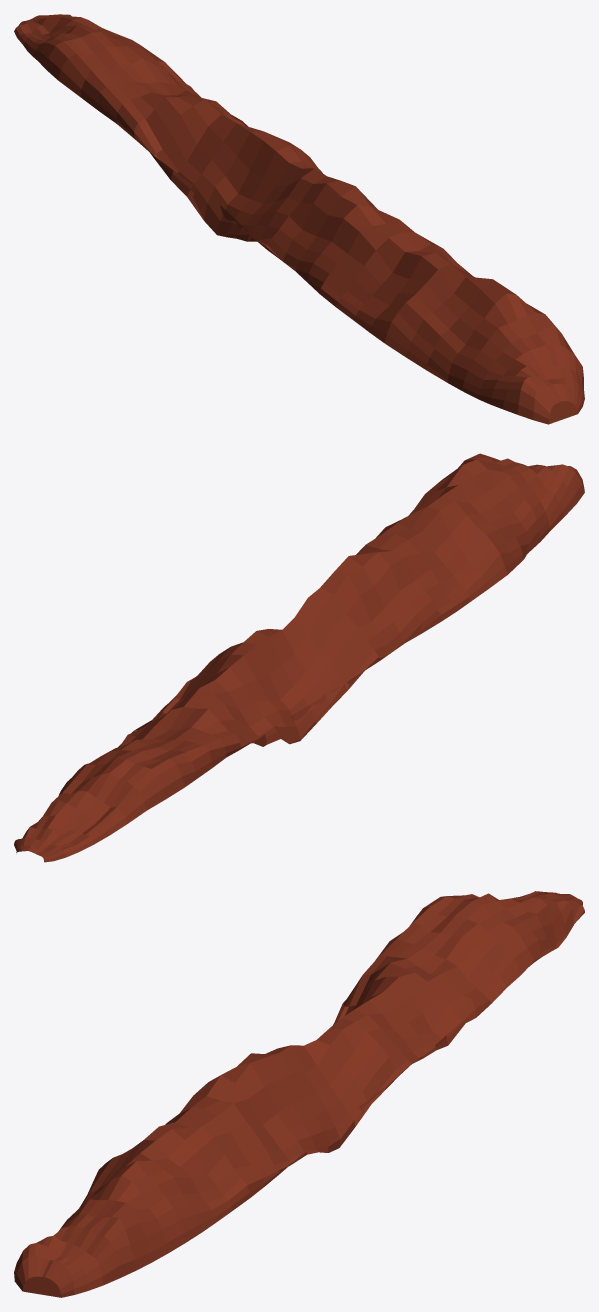
The model's file is Farmi_Kasviurat_Maassa.fbx.
The picture shows the model from 3 angles, top to bottom: view 1: azimuth 30°, elevation 25°; view 2: azimuth 150°, elevation 25°; view 3: azimuth 330°, elevation 25°; orthographic projection.
Parts seen in each view (by area): view 1: Maa Ura; view 2: Maa Ura; view 3: Maa Ura.
Part boxes in pixels (x1=…): Maa Ura: x1=14, y1=14, x2=584, y2=424; Maa Ura: x1=14, y1=453, x2=584, y2=862; Maa Ura: x1=14, y1=891, x2=584, y2=1297.
Bounding box in the file's own units: 54.12 × 43.17 × 390.
